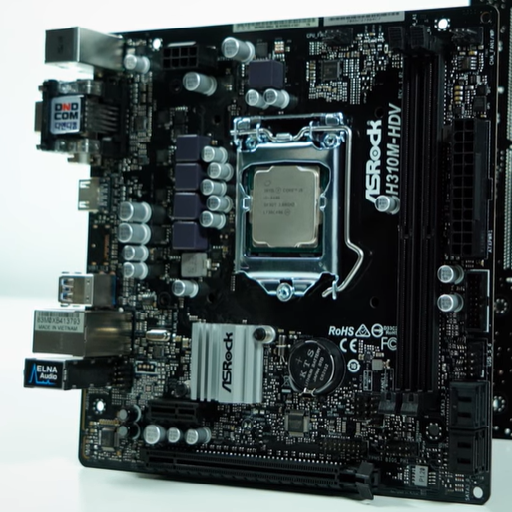CPU: (233, 116, 351, 301)
GPU: (138, 442, 373, 501)
MOTHERBOARD: (19, 1, 505, 503)
RAM: (394, 33, 448, 390)
